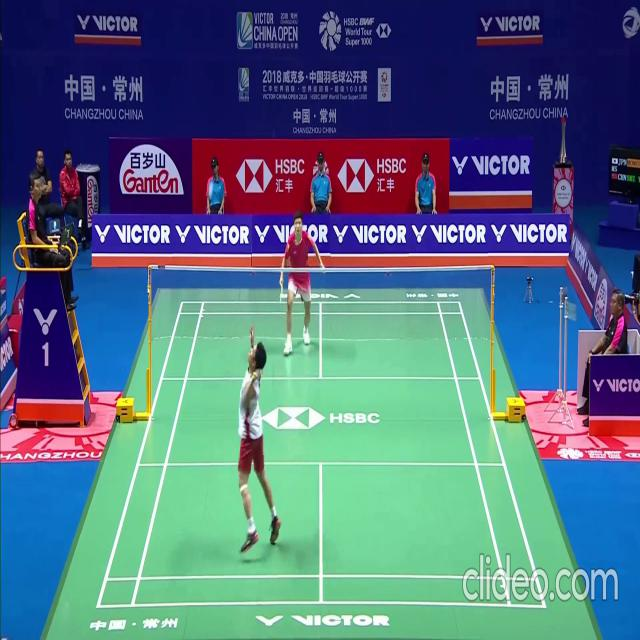Shuttlecock: (208, 191, 213, 199)
